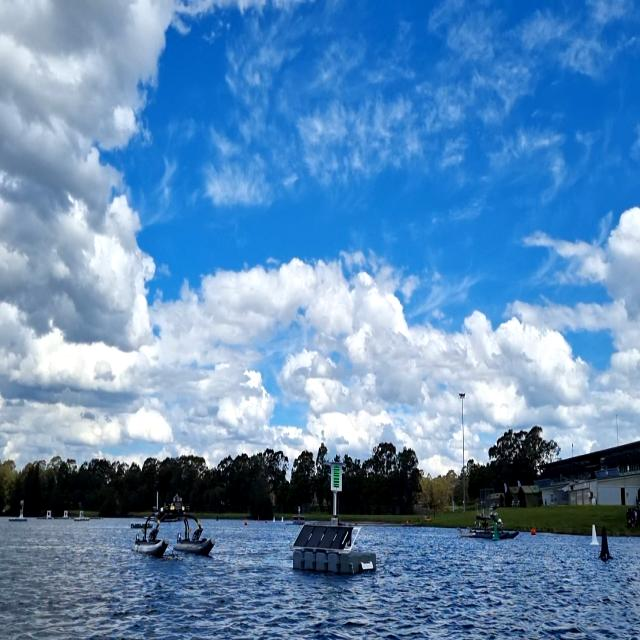led: (332, 464, 342, 489)
